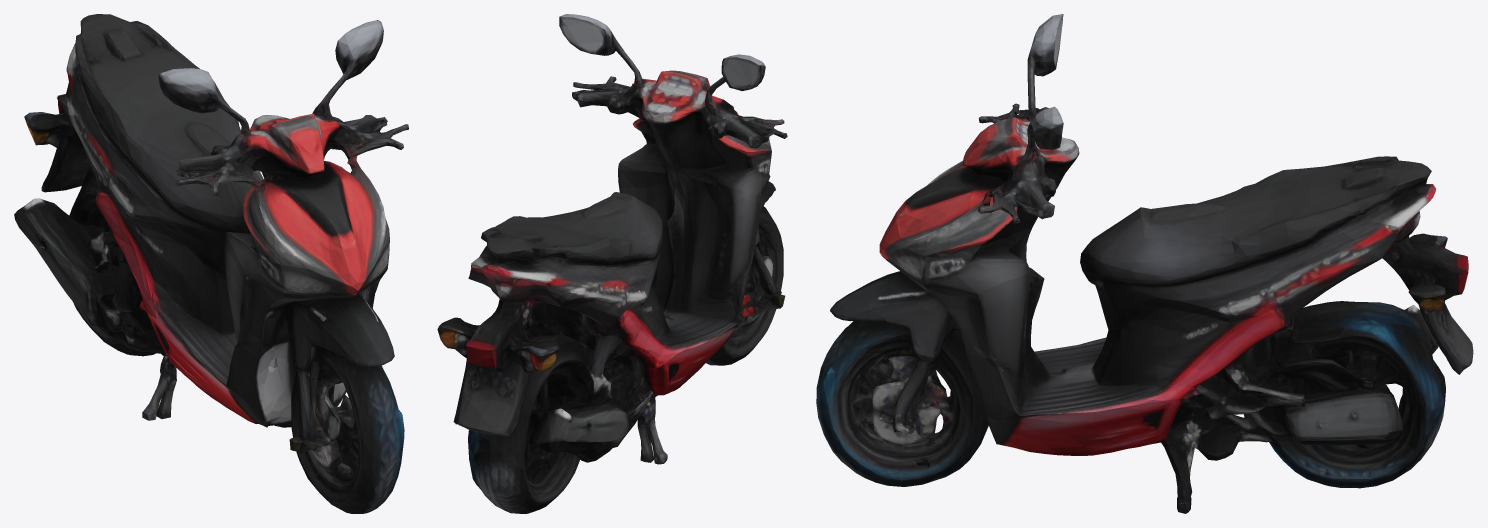
File: CLICK UP 170.glb
The picture shows the model from 3 angles, left to right: view 1: azimuth 30°, elevation 25°; view 2: azimuth 150°, elevation 25°; view 3: azimuth 270°, elevation 25°; orthographic projection. The views are drawn at different scales.
Visible parts, largest first — view 1: world; view 2: world; view 3: world.
Part boxes in pixels (left/top/right/bottom): world: left=14, top=14, right=408, bottom=513; world: left=437, top=14, right=787, bottom=513; world: left=816, top=14, right=1473, bottom=513.
Bounding box in the file's own units: 0.419 × 0.702 × 1.
Materials: 1 (1 with a texture image).
